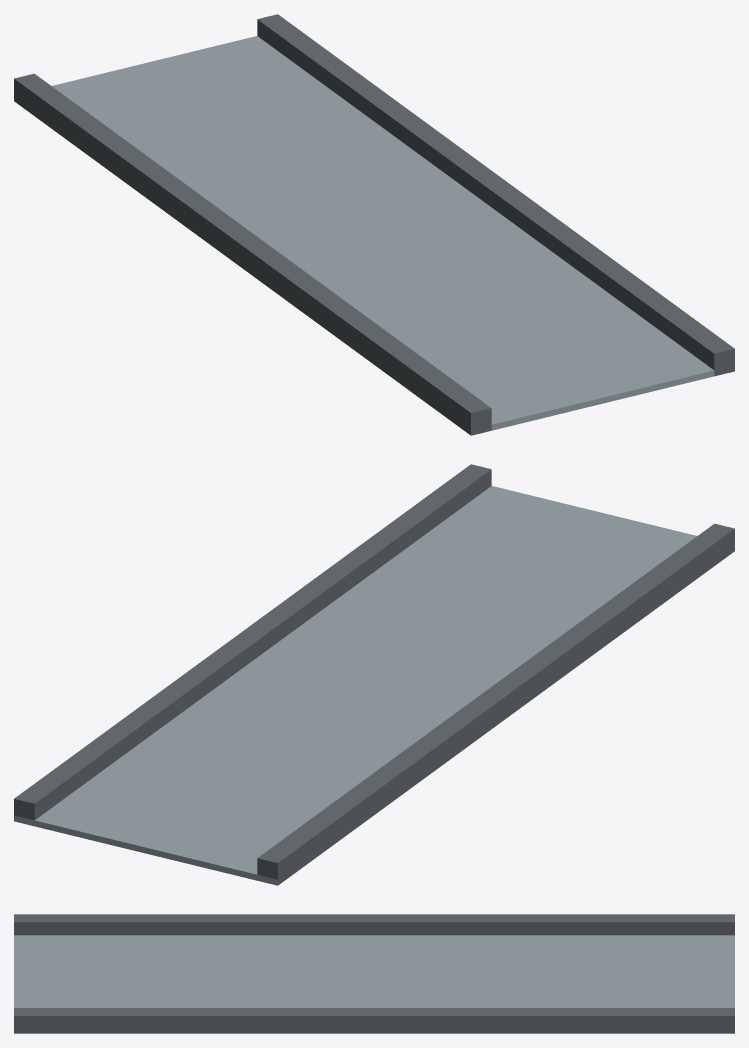
File: bridge.fbx
3 renders of one model, top to bottom at view 1: azimuth 30°, elevation 25°; view 2: azimuth 150°, elevation 25°; view 3: azimuth 270°, elevation 25°, orthographic. The views are drawn at different scales.
Visible parts, largest first — view 1: Cube; view 2: Cube; view 3: Cube.
Boxes of the visible parts, x1=… form: Cube: x1=14, y1=14, x2=734, y2=435; Cube: x1=14, y1=464, x2=734, y2=885; Cube: x1=14, y1=914, x2=734, y2=1033.
Bounding box in the file's own units: 200 × 16.39 × 600.
